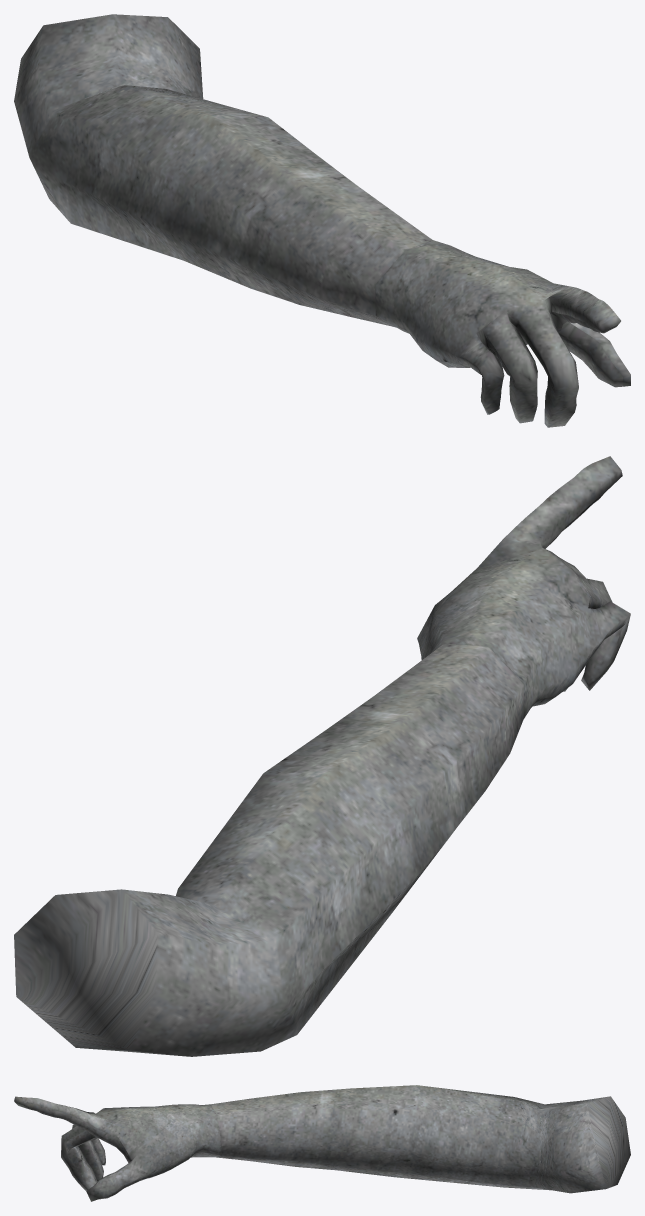
Rendered from SM_WeepingAngel_Point_RightArm.fbx.
3 renders of one model, top to bottom at view 1: azimuth 30°, elevation 25°; view 2: azimuth 150°, elevation 25°; view 3: azimuth 270°, elevation 25°, orthographic. The views are drawn at different scales.
Parts seen in each view (by area): view 1: SM_WeepingAngel_Point_RightArm; view 2: SM_WeepingAngel_Point_RightArm; view 3: SM_WeepingAngel_Point_RightArm.
Part boxes in pixels (<box>): SM_WeepingAngel_Point_RightArm: <box>14,14,630,427</box>; SM_WeepingAngel_Point_RightArm: <box>14,456,630,1056</box>; SM_WeepingAngel_Point_RightArm: <box>14,1085,630,1201</box>.
Size of the model in its own units: 0.1552 by 0.1213 by 0.5908.
